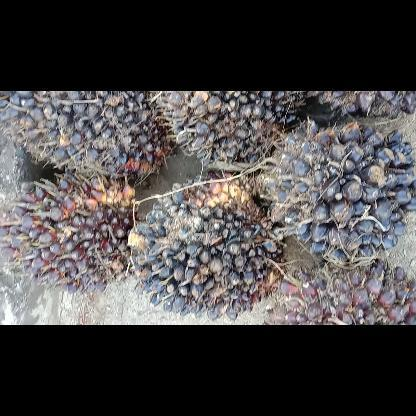TBS mentah: (126, 170, 290, 324), (256, 113, 414, 266), (0, 169, 140, 295), (0, 90, 179, 184), (152, 91, 306, 177), (259, 254, 415, 324)
